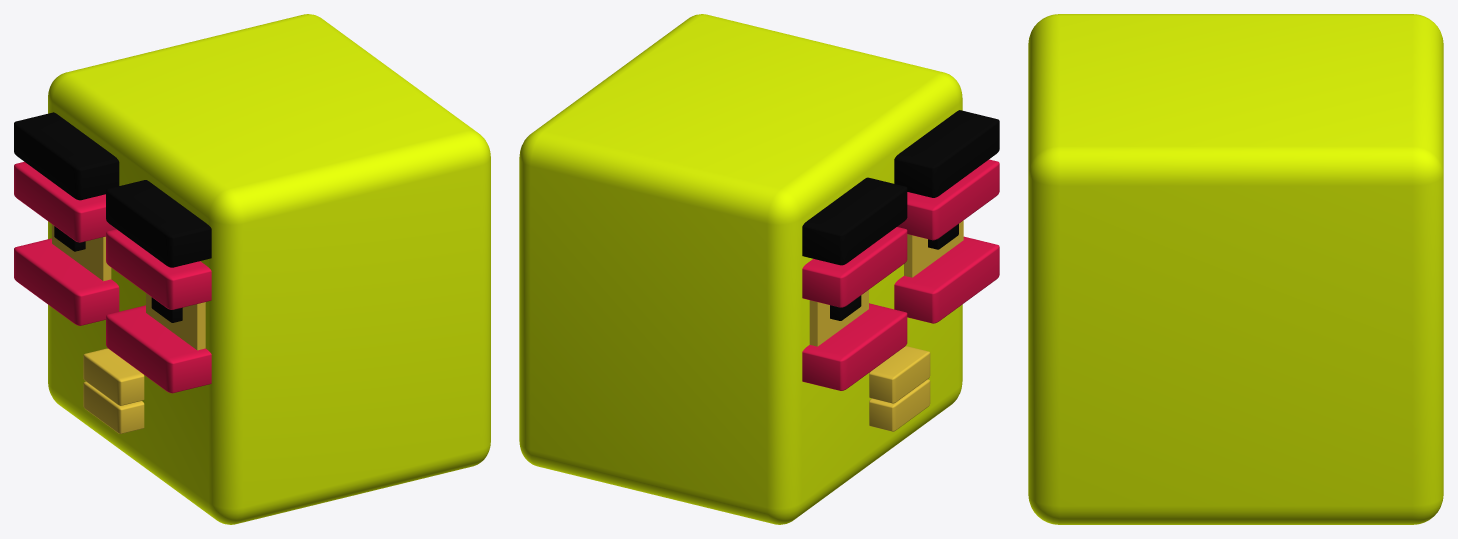
Rendered from NAKHEADAR.glb.
The picture shows the model from 3 angles, left to right: view 1: azimuth 30°, elevation 25°; view 2: azimuth 150°, elevation 25°; view 3: azimuth 270°, elevation 25°; orthographic projection. The views are drawn at different scales.
Parts seen in each view (by area): view 1: M_TOP; view 2: M_TOP; view 3: M_TOP.
Part boxes in pixels (left/top/right/bottom): M_TOP: left=14, top=14, right=490, bottom=524; M_TOP: left=519, top=14, right=999, bottom=524; M_TOP: left=1028, top=14, right=1443, bottom=524.
Bounding box in the file's own units: 1 × 1 × 1.
